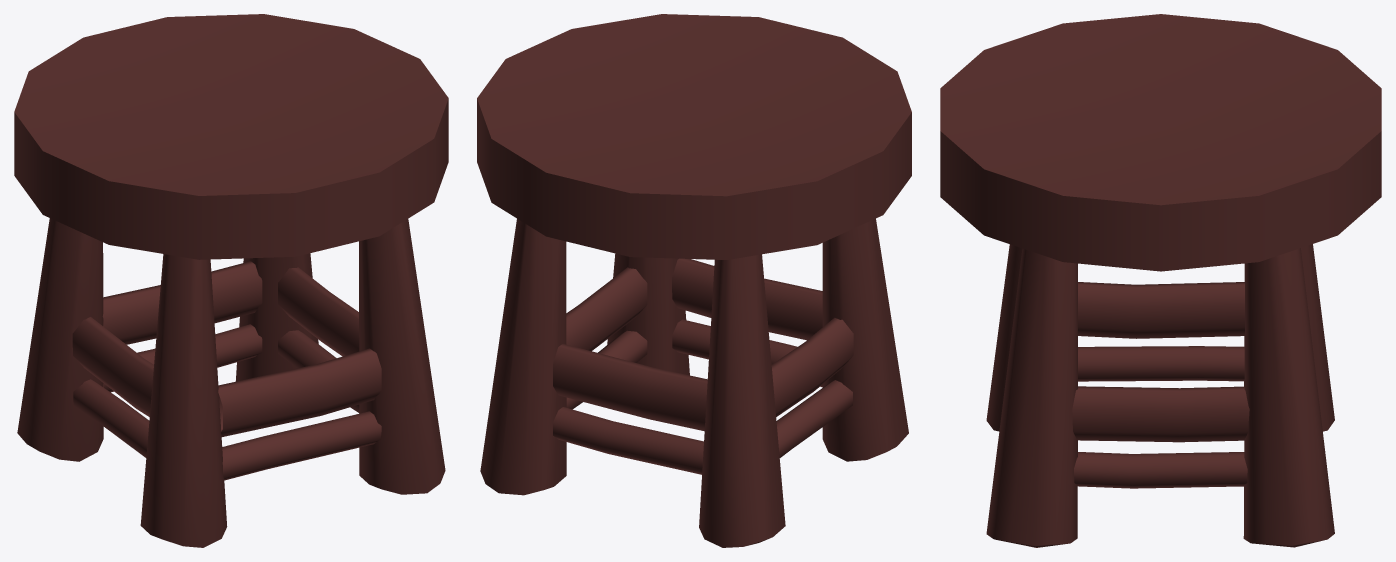
Rendered from tabouret_bas.fbx.
3 renders of one model, left to right at view 1: azimuth 30°, elevation 25°; view 2: azimuth 150°, elevation 25°; view 3: azimuth 270°, elevation 25°, orthographic. The views are drawn at different scales.
Visible parts, largest first — view 1: tabouret_bas1; view 2: tabouret_bas1; view 3: tabouret_bas1.
Part boxes in pixels (left/top/right/bottom): tabouret_bas1: left=14, top=14, right=448, bottom=547; tabouret_bas1: left=477, top=14, right=911, bottom=547; tabouret_bas1: left=940, top=14, right=1381, bottom=547.
Bounding box in the file's own units: 15.19 × 13.99 × 14.81.
